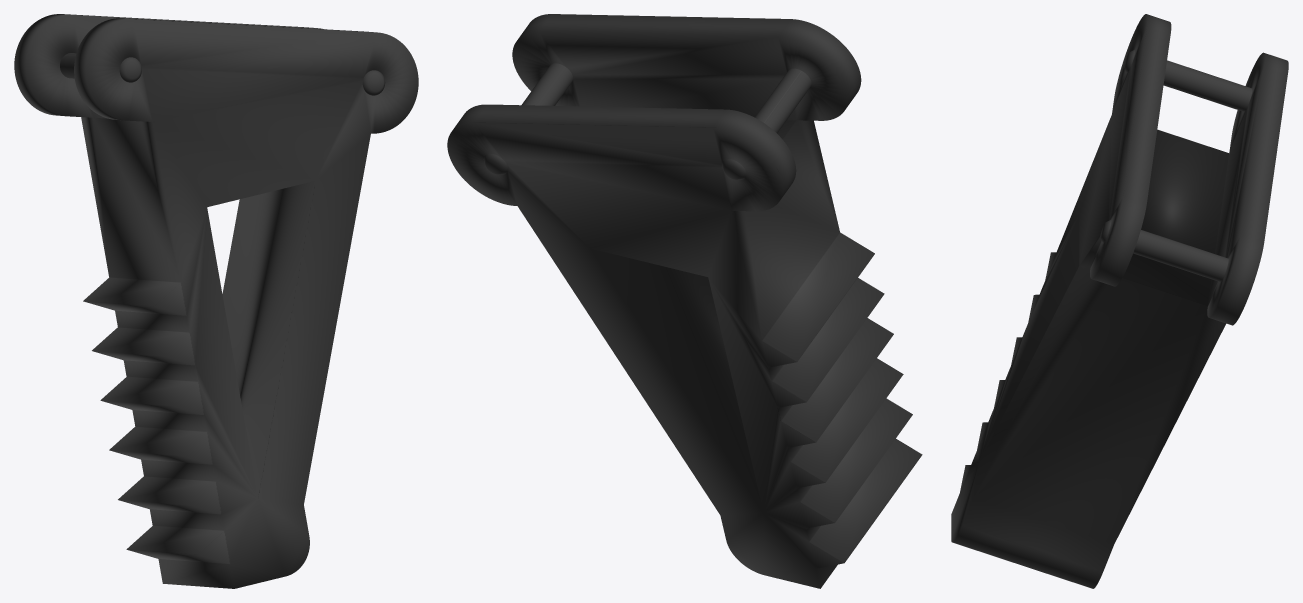
The model's file is chwytak6_P.obj.
3 renders of one model, left to right at view 1: azimuth 30°, elevation 25°; view 2: azimuth 150°, elevation 25°; view 3: azimuth 270°, elevation 25°, orthographic. The views are drawn at different scales.
Parts seen in each view (by area): view 1: chwytak_P; view 2: chwytak_P; view 3: chwytak_P.
Part boxes in pixels (left/top/right/bottom): chwytak_P: left=14, top=14, right=418, bottom=588; chwytak_P: left=447, top=14, right=922, bottom=588; chwytak_P: left=951, top=14, right=1288, bottom=588.
Bounding box in the file's own units: 1.16 × 1.9 × 1.08.
Materials: 1 (1 with a texture image).
